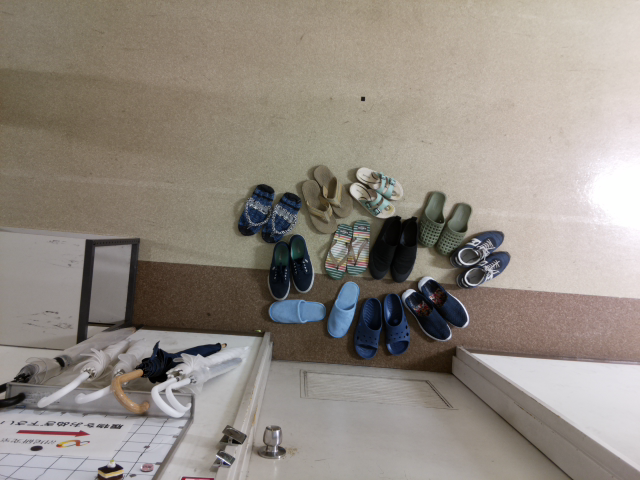Copy of Copy of Copy of Copy of Copy of Copy of Copy of sandal: (348, 182, 395, 218)
Copy of Copy of Copy of Copy of Copy of Copy of Copy of shoes: (369, 215, 402, 279)
Copy of Copy of Copy of Copy of Copy of Copy of sandal: (355, 166, 403, 200)
Copy of Copy of Copy of Copy of Copy of Copy of shoes: (389, 216, 419, 282)
Copy of Copy of Copy of Copy of Copy of sandal: (346, 219, 371, 275)
Copy of Copy of Copy of Copy of Copy of shoes: (456, 249, 511, 290)
Copy of Copy of Copy of Copy of Copy of slipper: (268, 298, 326, 323)
Copy of Copy of Copy of Copy of sandal: (323, 223, 353, 280)
Copy of Copy of Copy of Copy of shoes: (450, 229, 505, 268)
Copy of Copy of Copy of Copy of slipper: (326, 281, 360, 338)
Copy of Copy of Copy of sandal: (301, 179, 337, 234)
Copy of Copy of Copy of shoes: (400, 288, 452, 341)
Copy of Copy of Copy of slipper: (352, 296, 382, 359)
Copy of Copy of sandal: (313, 164, 354, 217)
Copy of Copy of shoes: (417, 275, 468, 329)
Copy of Copy of slipper: (382, 292, 409, 354)
Copy of sandal: (261, 191, 302, 244)
Copy of shoes: (267, 239, 291, 300)
Copy of slipper: (433, 202, 472, 256)
sandal: (237, 182, 275, 238)
shoes: (288, 233, 314, 294)
slipper: (416, 190, 446, 247)
